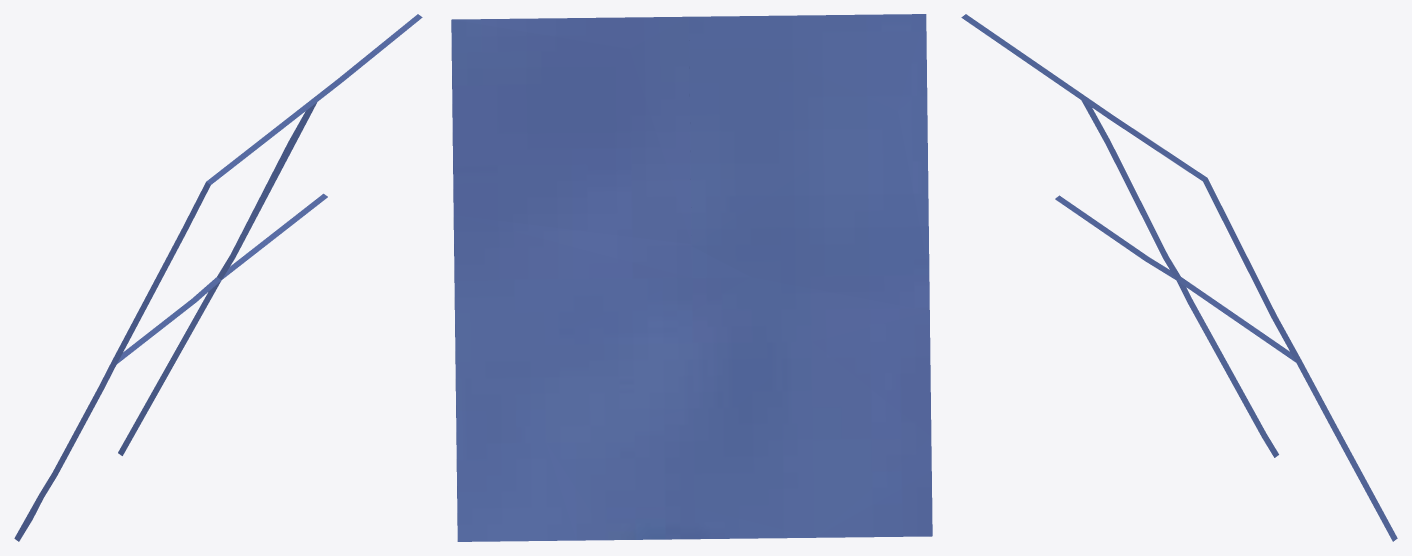
3 renders of one model, left to right at view 1: azimuth 30°, elevation 25°; view 2: azimuth 150°, elevation 25°; view 3: azimuth 270°, elevation 25°, orthographic. The views are drawn at different scales.
Size of the model in its own units: 4926 by 4407 by 4221.
Materials: 1 (1 with a texture image).
